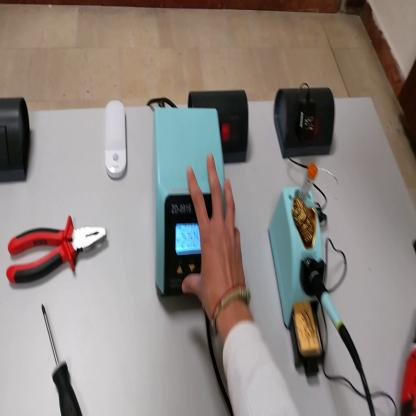electric screwdriver: (401, 333, 416, 416)
hand: (184, 156, 249, 321)
pliers: (8, 209, 112, 283)
screwdriver-: (40, 307, 83, 415)
socket: (186, 84, 253, 163), (272, 83, 337, 151)
welder base: (272, 160, 333, 381)
welder probe tip: (306, 262, 367, 384)
welder station: (152, 104, 224, 295)
